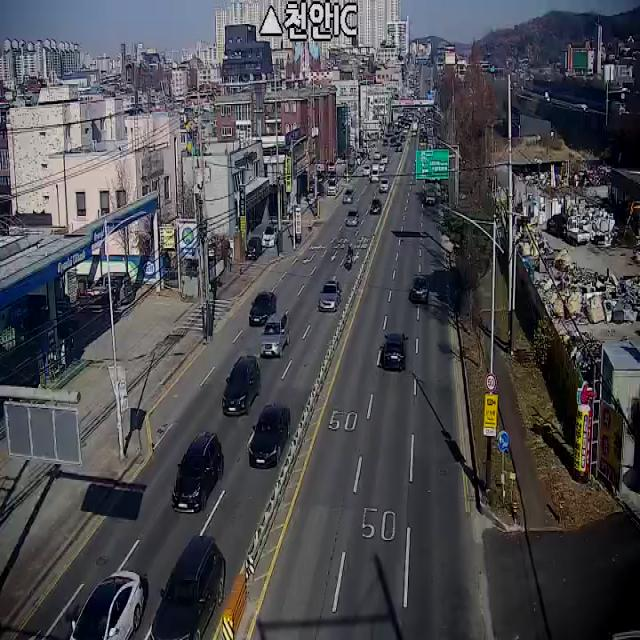Car: (150, 536, 226, 640), (70, 571, 146, 640), (172, 433, 225, 513), (248, 406, 291, 470), (222, 356, 262, 416), (90, 272, 135, 307), (260, 312, 290, 358), (382, 330, 408, 370), (249, 292, 277, 326), (319, 280, 342, 312), (411, 272, 430, 304), (245, 237, 262, 260), (261, 226, 278, 246), (345, 206, 360, 226), (343, 185, 356, 202), (327, 178, 339, 196), (370, 198, 382, 214), (314, 160, 327, 173), (426, 188, 436, 204), (379, 179, 390, 191), (335, 154, 344, 167), (380, 152, 389, 164), (328, 162, 336, 174), (363, 164, 371, 176), (374, 150, 382, 160)
Motorcycle: (341, 238, 358, 272)
Truck: (562, 217, 589, 247)
